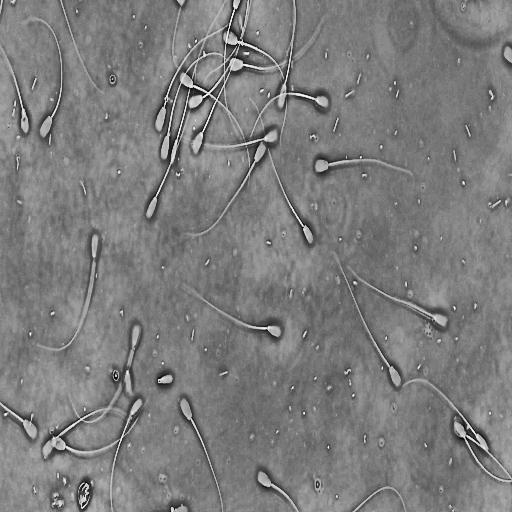dirt-particles: (76, 478, 93, 511)
loose-head: (157, 372, 174, 385)
loose-tail: (59, 0, 107, 98), (351, 483, 407, 512), (122, 370, 133, 398)
normal: (329, 244, 404, 392), (247, 93, 318, 249), (191, 0, 252, 156), (145, 39, 197, 222), (152, 21, 235, 135), (178, 70, 251, 192), (185, 136, 269, 240), (158, 50, 232, 167), (33, 231, 99, 356), (222, 27, 289, 145), (66, 322, 142, 426), (346, 259, 449, 331), (185, 0, 251, 111), (402, 379, 489, 453), (18, 12, 66, 143), (177, 389, 227, 512), (227, 19, 326, 74), (42, 405, 139, 461), (48, 403, 144, 457), (186, 287, 284, 339), (246, 91, 331, 149), (308, 150, 419, 193), (0, 44, 30, 134), (175, 126, 278, 151)
proximal-droplet: (165, 95, 168, 103)
